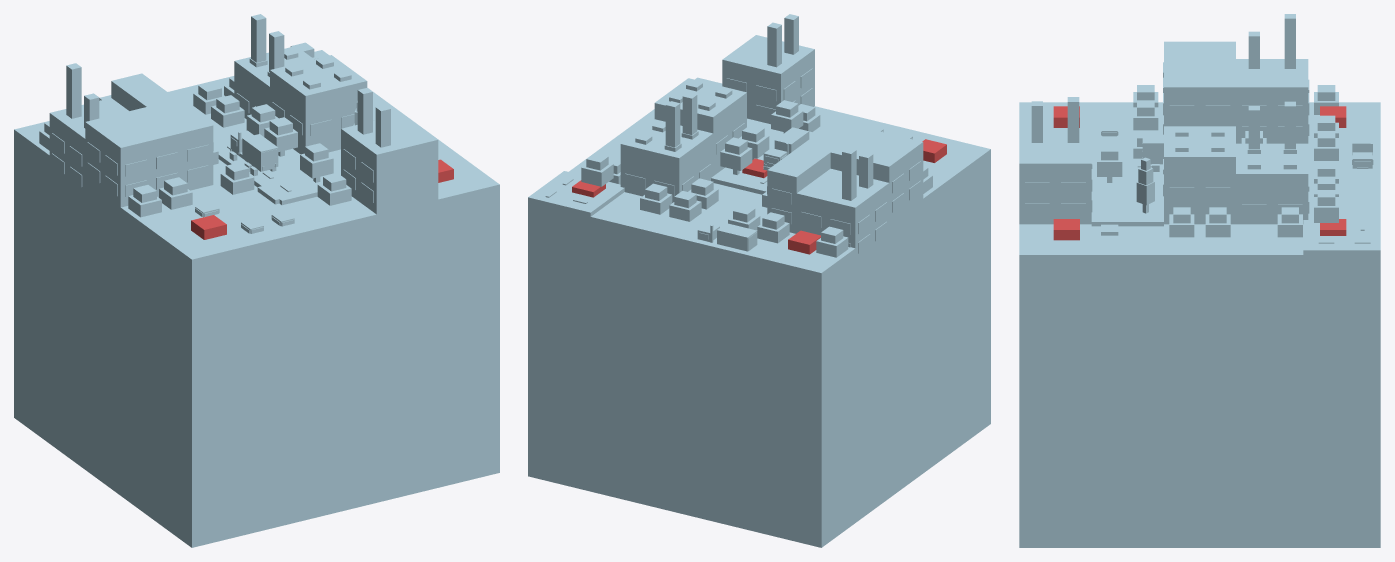
File: block_10_sewersystem_100.glb
The picture shows the model from 3 angles, left to right: view 1: azimuth 30°, elevation 25°; view 2: azimuth 150°, elevation 25°; view 3: azimuth 270°, elevation 25°; orthographic projection. The views are drawn at different scales.
Parts seen in each view (by area): view 1: Patch_LowerLeft_b10_SL, Factories_LowerLeft_b10_SL, Roads_LowerLeft_b10_SL, Asset_Truck.003_SL, Ground_LowerLeft_b10_SL, Asset_Tree_Round.057_SL, SL_Net_10, Asset_Tree_Round.044_SL, Asset_Tree_Round.049_SL, Asset_Tree_Round.061_SL, Asset_Tree_Round.047_SL, Asset_Tree_Round.036_SL (+4 smaller); view 2: Patch_LowerLeft_b10_SL, Factories_LowerLeft_b10_SL, Roads_LowerLeft_b10_SL, SL_Net_10, Ground_LowerLeft_b10_SL, Asset_Truck.002_SL, Asset_Truck.003_SL, Asset_Tree_Round.042_SL, Asset_Tree_Round.029_SL, Asset_Tree_Round.057_SL, Asset_Tree_Round.027_SL, Asset_Tree_Round.024_SL (+5 smaller); view 3: Patch_LowerLeft_b10_SL, Factories_LowerLeft_b10_SL, Roads_LowerLeft_b10_SL, Ground_LowerLeft_b10_SL, SL_Net_10, Asset_Truck.002_SL, Asset_Tree_Round.057_SL, Asset_Tree_Tall.001_SL, Asset_Tree_Round.029_SL, Asset_Tree_Round.037_SL, Asset_Tree_Round.043_SL, Asset_Tree_Round.045_SL (+4 smaller).
Part boxes in pixels (<box>): Patch_LowerLeft_b10_SL: <box>14,76,499,547</box>; Factories_LowerLeft_b10_SL: <box>49,14,438,234</box>; Roads_LowerLeft_b10_SL: <box>14,50,499,249</box>; Asset_Truck.003_SL: <box>229,130,278,176</box>; Ground_LowerLeft_b10_SL: <box>36,148,468,250</box>; Asset_Tree_Round.057_SL: <box>300,143,333,182</box>; SL_Net_10: <box>191,159,453,239</box>; Asset_Tree_Round.044_SL: <box>264,117,297,156</box>; Asset_Tree_Round.049_SL: <box>220,162,254,194</box>; Asset_Tree_Round.061_SL: <box>317,173,351,205</box>; Asset_Tree_Round.047_SL: <box>128,185,161,217</box>; Asset_Tree_Round.036_SL: <box>211,95,244,127</box>; Patch_LowerLeft_b10_SL: <box>528,77,990,547</box>; Factories_LowerLeft_b10_SL: <box>620,14,923,283</box>; Roads_LowerLeft_b10_SL: <box>528,132,956,287</box>; SL_Net_10: <box>572,139,946,254</box>; Ground_LowerLeft_b10_SL: <box>595,118,930,273</box>; Asset_Truck.002_SL: <box>697,223,757,251</box>; Asset_Truck.003_SL: <box>763,127,809,170</box>; Asset_Tree_Round.042_SL: <box>720,137,752,174</box>; Asset_Tree_Round.029_SL: <box>581,153,613,186</box>; Asset_Tree_Round.057_SL: <box>771,100,803,133</box>; Asset_Tree_Round.027_SL: <box>669,190,701,221</box>; Asset_Tree_Round.024_SL: <box>816,226,848,257</box>; Patch_LowerLeft_b10_SL: <box>1019,102,1380,547</box>; Factories_LowerLeft_b10_SL: <box>1019,14,1309,224</box>; Roads_LowerLeft_b10_SL: <box>1019,156,1380,306</box>; Ground_LowerLeft_b10_SL: <box>1091,174,1344,235</box>; SL_Net_10: <box>1053,106,1346,240</box>; Asset_Truck.002_SL: <box>1352,127,1373,168</box>; Asset_Tree_Round.057_SL: <box>1097,144,1122,182</box>; Asset_Tree_Tall.001_SL: <box>1136,157,1154,213</box>; Asset_Tree_Round.029_SL: <box>1314,190,1338,222</box>; Asset_Tree_Round.037_SL: <box>1277,207,1302,237</box>; Asset_Tree_Round.043_SL: <box>1205,207,1230,237</box>; Asset_Tree_Round.045_SL: <box>1169,207,1194,237</box>.
Bounding box in the file's own units: 9.52 × 11.46 × 9.5.
